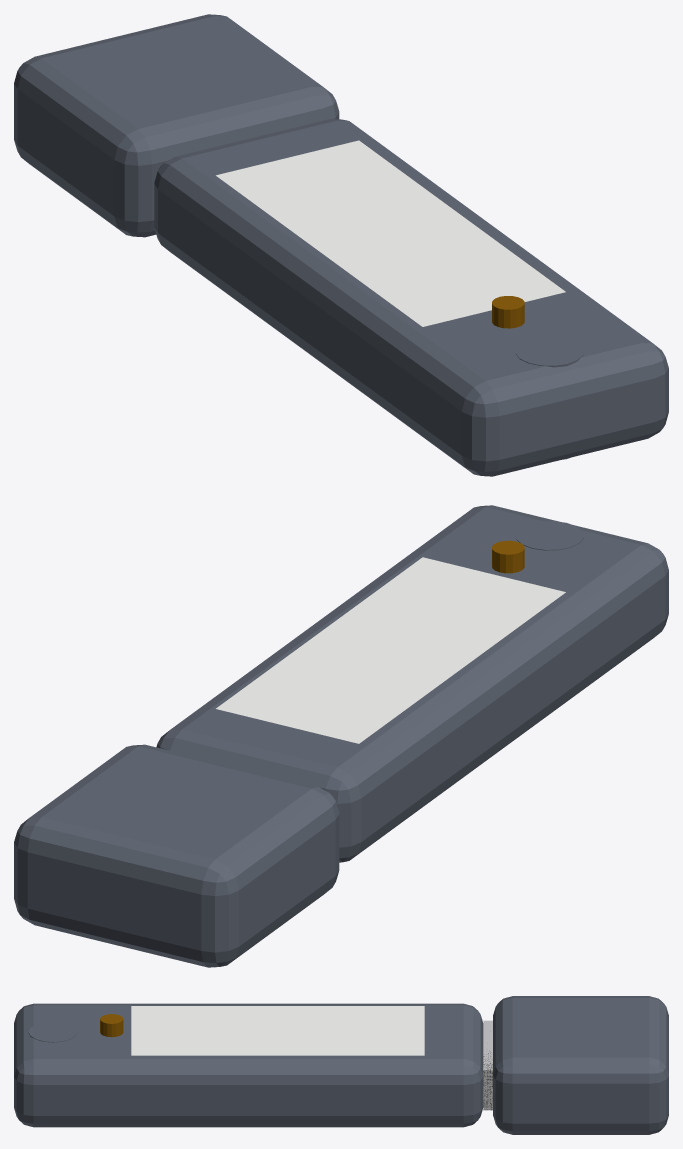
File: usb_flash.glb
The picture shows the model from 3 angles, top to bottom: view 1: azimuth 30°, elevation 25°; view 2: azimuth 150°, elevation 25°; view 3: azimuth 270°, elevation 25°; orthographic projection. The views are drawn at different scales.
Visible parts, largest first — view 1: usb_shell, cap, label, led_act; view 2: usb_shell, cap, label, led_act; view 3: usb_shell, cap, label, led_act.
Boxes of the visible parts, x1,y1,x2,y2 form: usb_shell: (154, 119, 668, 476); cap: (14, 14, 339, 237); label: (216, 140, 565, 326); led_act: (492, 296, 524, 328); usb_shell: (156, 505, 668, 862); cap: (14, 744, 339, 967); label: (216, 557, 565, 743); led_act: (492, 540, 524, 573); usb_shell: (14, 1003, 492, 1127); cap: (493, 996, 668, 1134); label: (131, 1006, 424, 1055); led_act: (100, 1014, 123, 1037).
Size of the model in its own units: 0.0185 by 0.0095 by 0.067.
